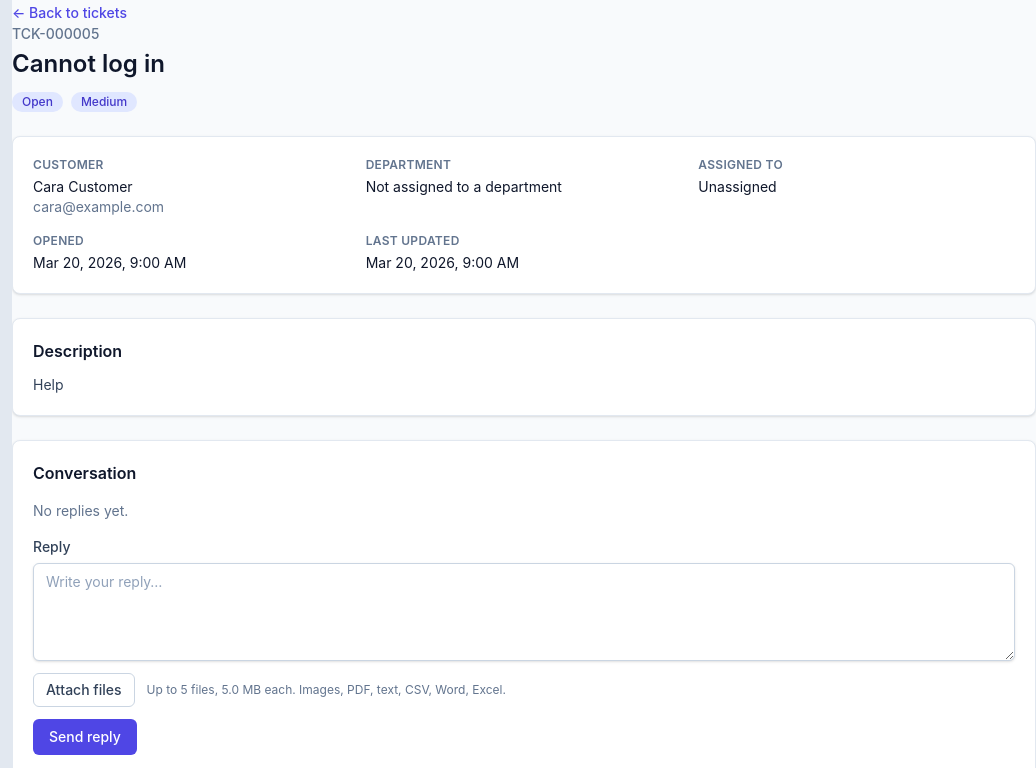
it: ticket conversation › sends a trimmed reply, appends it and clears the box
Type "  Thanks a lot " into the text box labelled "Reply" at (524, 612), box x1=33 y1=563 x2=1015 y2=661
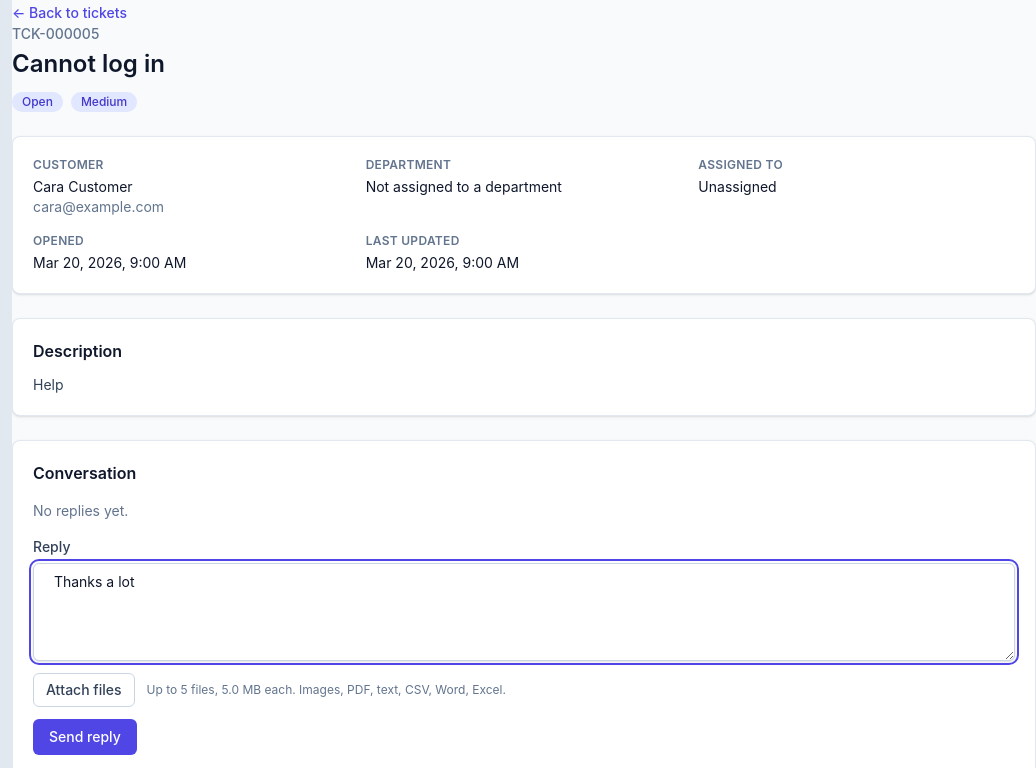
Click the button "Send reply" at (85, 737), box x1=33 y1=719 x2=137 y2=755
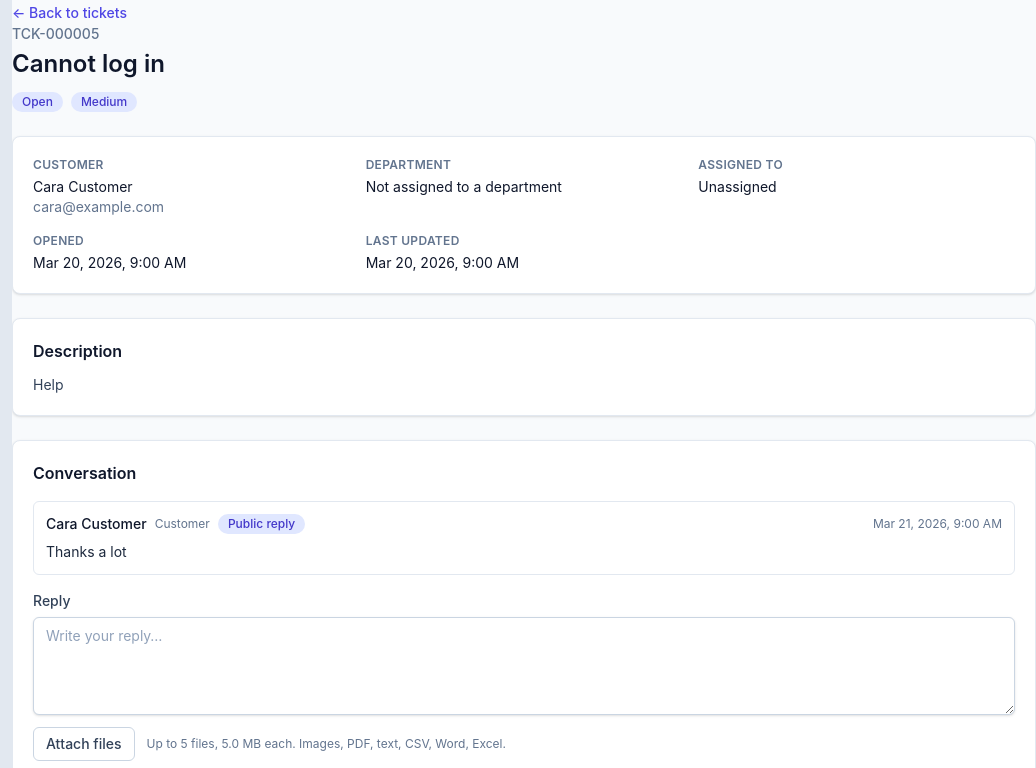
expect the text "Thanks a lot" is shown: met, box x1=46 y1=543 x2=127 y2=560
expect the text box labelled "Reply" is empty: met, box x1=33 y1=617 x2=1015 y2=715
